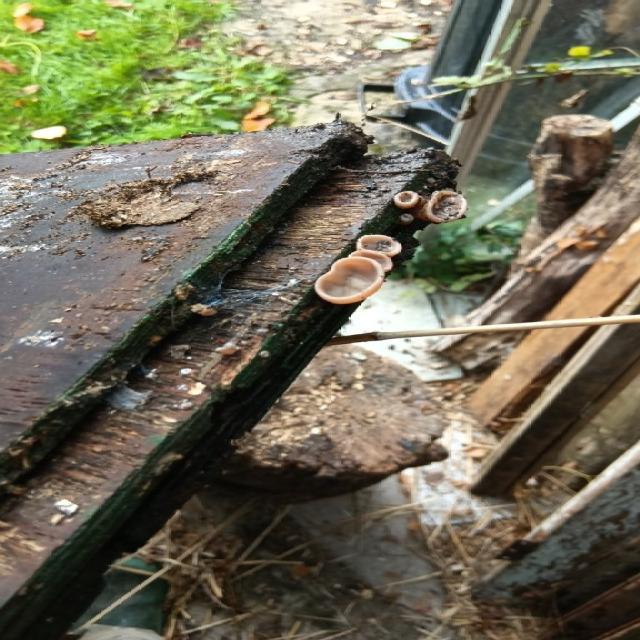Fase Muda: (310, 252, 386, 302), (424, 188, 471, 232), (354, 230, 409, 259), (395, 185, 416, 211)
primordia: (393, 212, 418, 224)
